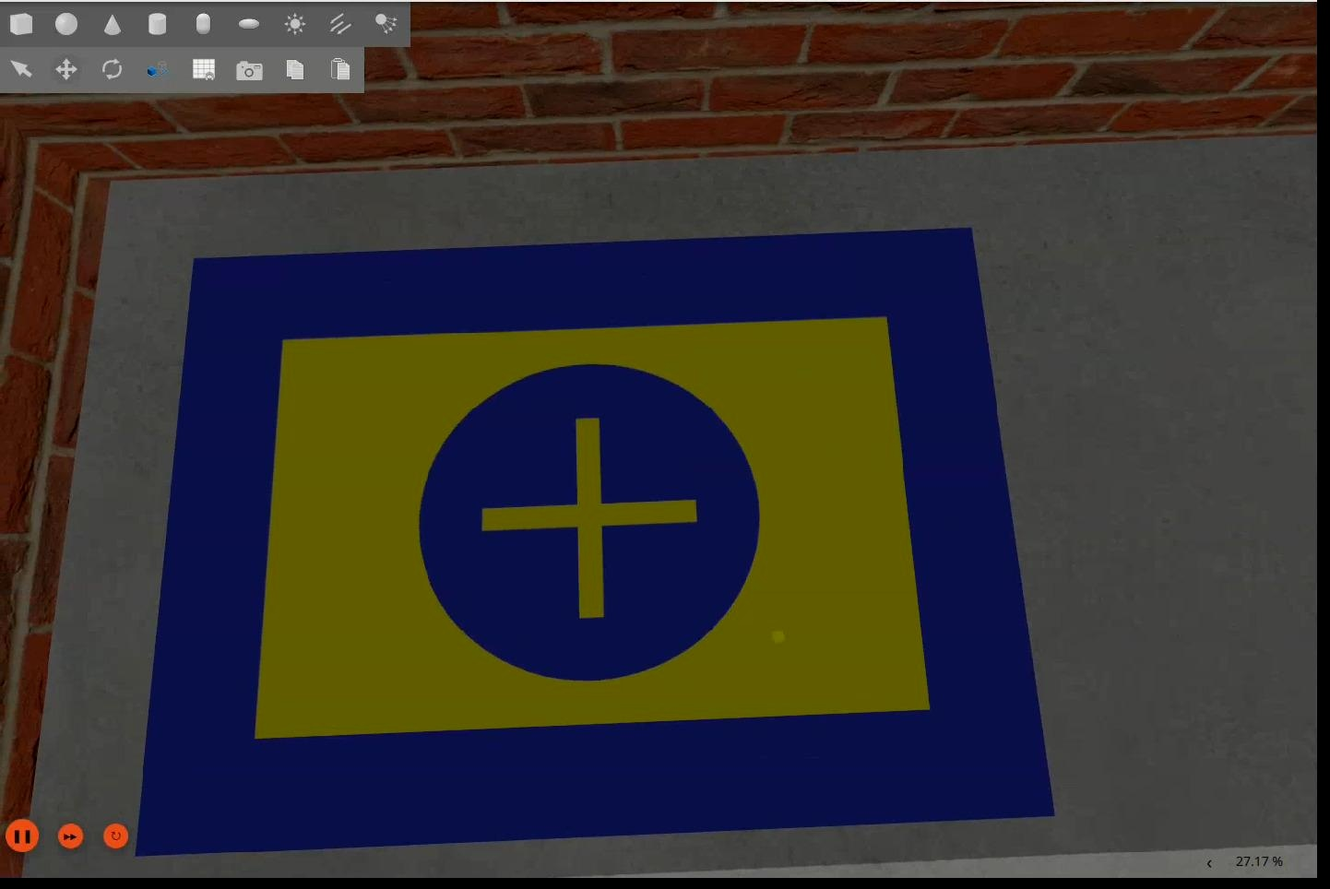large_base: (137, 229, 1059, 857)
